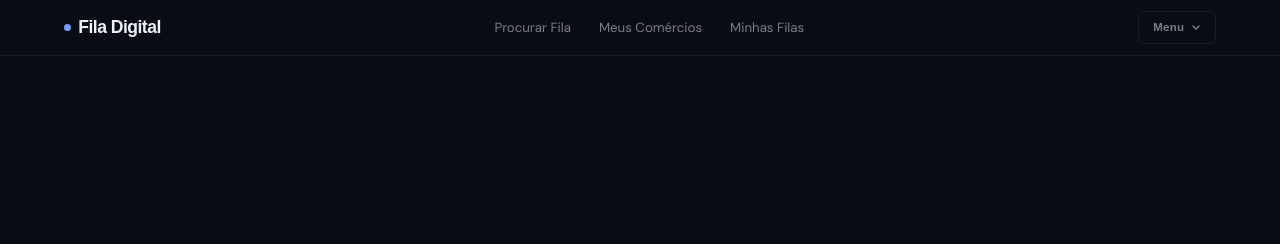
Scenario: Header › authenticated › renders Sair button inside dropdown
Click the button "Menu" at (1177, 28), box [1138, 12, 1216, 44]
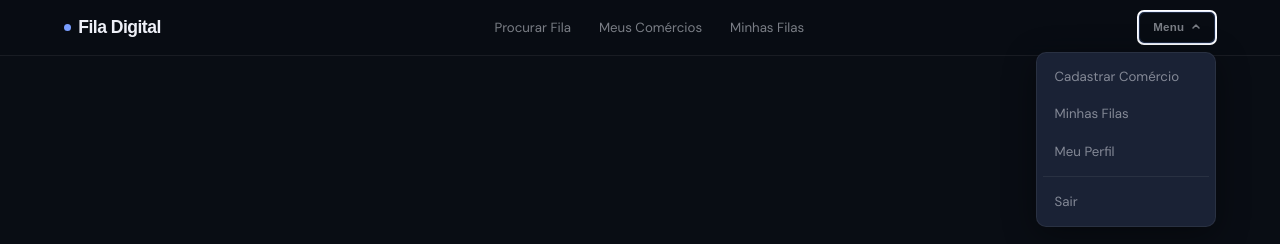
Check: the menu item "Sair" is shown, box [1043, 183, 1209, 220]
